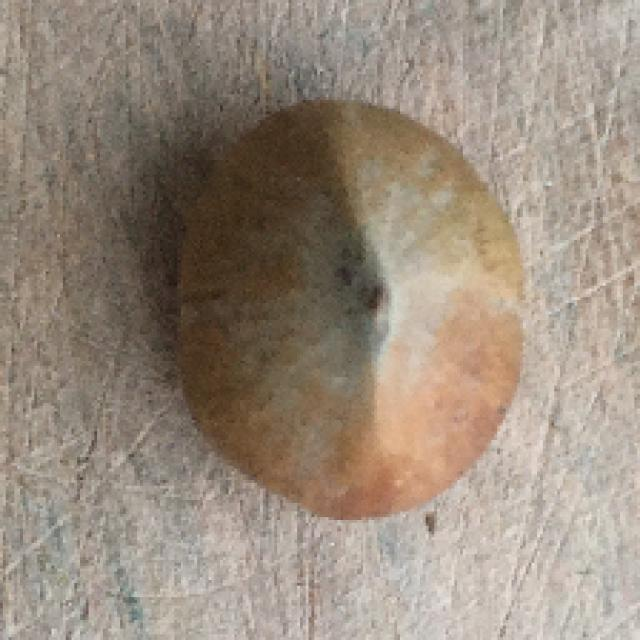damagedHazelnut: (174, 95, 540, 541)
